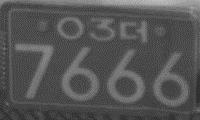0: (56, 15, 84, 40)
3: (88, 16, 115, 42)
6: (59, 46, 100, 103), (106, 48, 146, 104), (152, 52, 190, 107)
7: (14, 42, 54, 99)
더: (118, 19, 147, 44)
